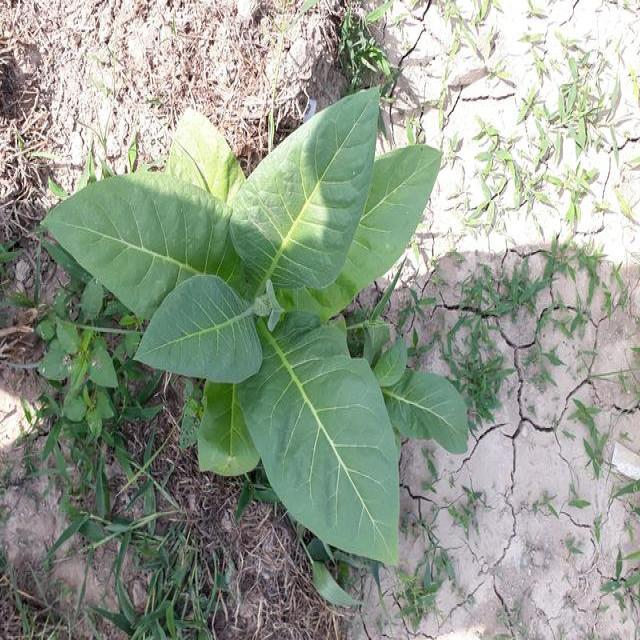crop: (92, 80, 484, 574)
